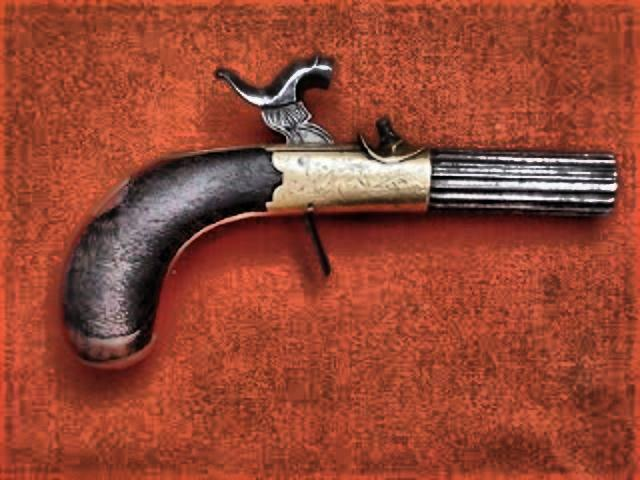pistol: (46, 46, 618, 370)
